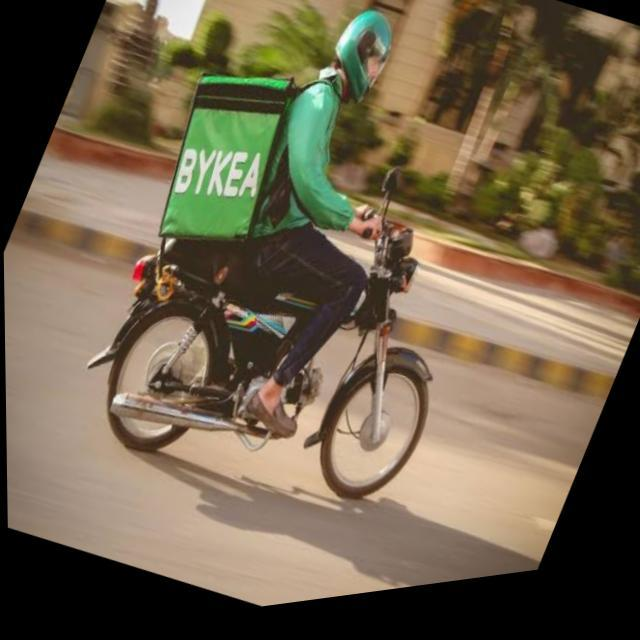Helmet: (324, 0, 400, 119)
